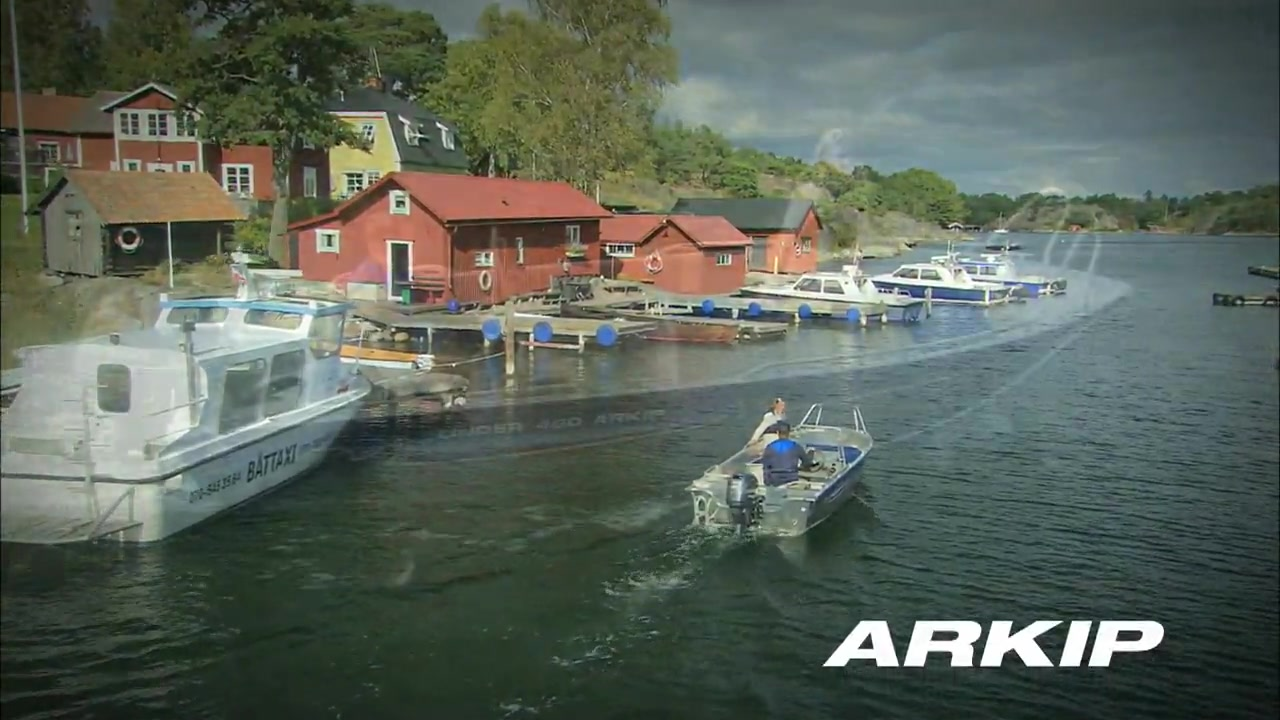boat: (685, 401, 874, 540)
